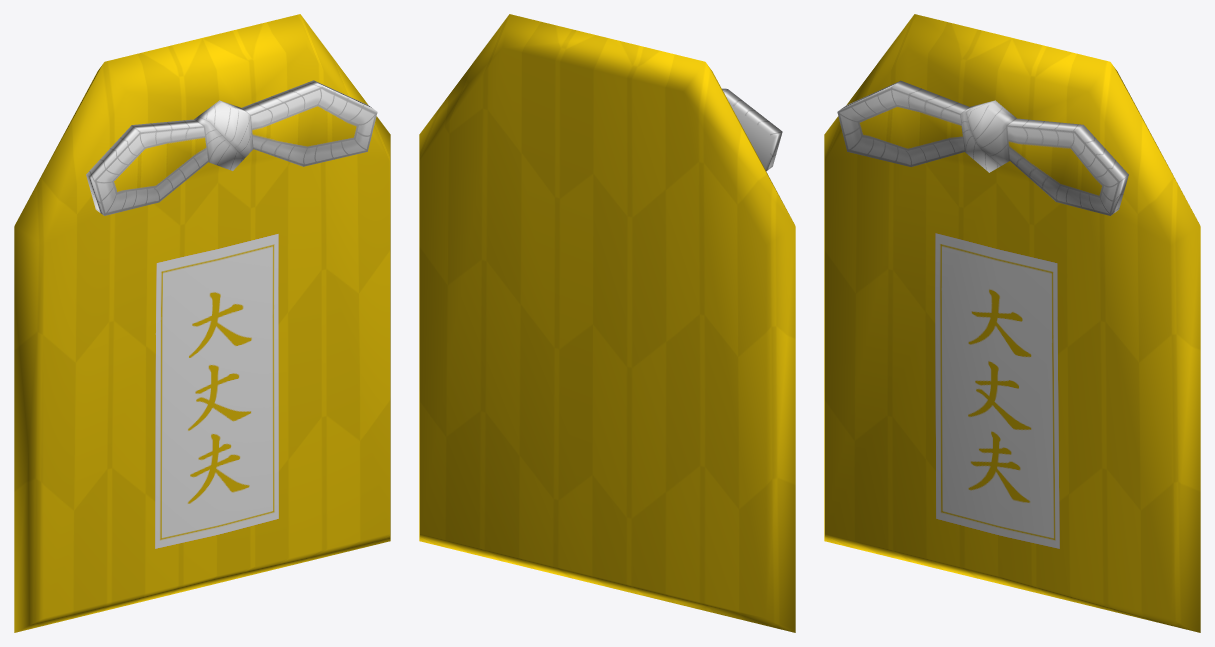
Rendered from omamori.fbx.
The picture shows the model from 3 angles, left to right: view 1: azimuth 30°, elevation 25°; view 2: azimuth 150°, elevation 25°; view 3: azimuth 330°, elevation 25°; orthographic projection.
Parts seen in each view (by area): view 1: pCube1; view 2: pCube1; view 3: pCube1.
Boxes of the visible parts, x1=… form: pCube1: x1=14, y1=14, x2=390, y2=632; pCube1: x1=419, y1=14, x2=795, y2=632; pCube1: x1=824, y1=14, x2=1200, y2=632.
Bounding box in the file's own units: 8.32 × 11.61 × 1.84.
Materials: 1 (1 with a texture image).
